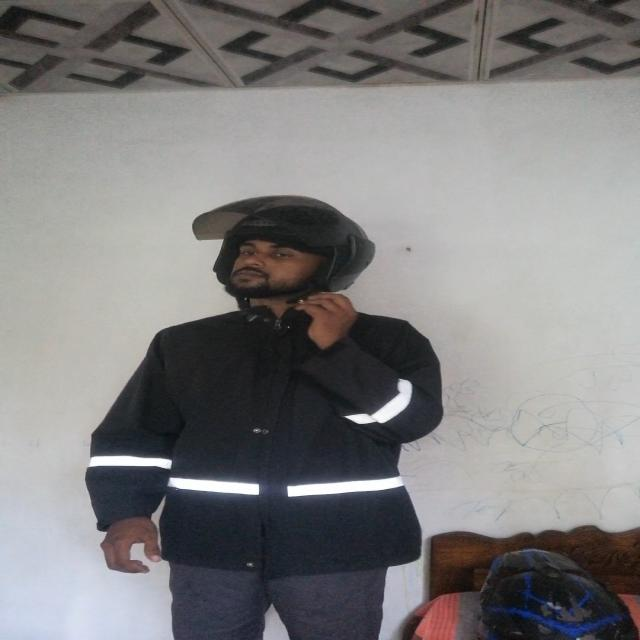Helmet_Wearer: (169, 192, 382, 316)
Jacket_Wearer: (95, 288, 468, 588)
Person: (92, 194, 471, 640)
